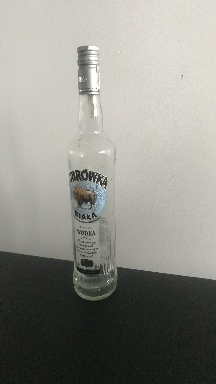butelka: (64, 42, 119, 303)
